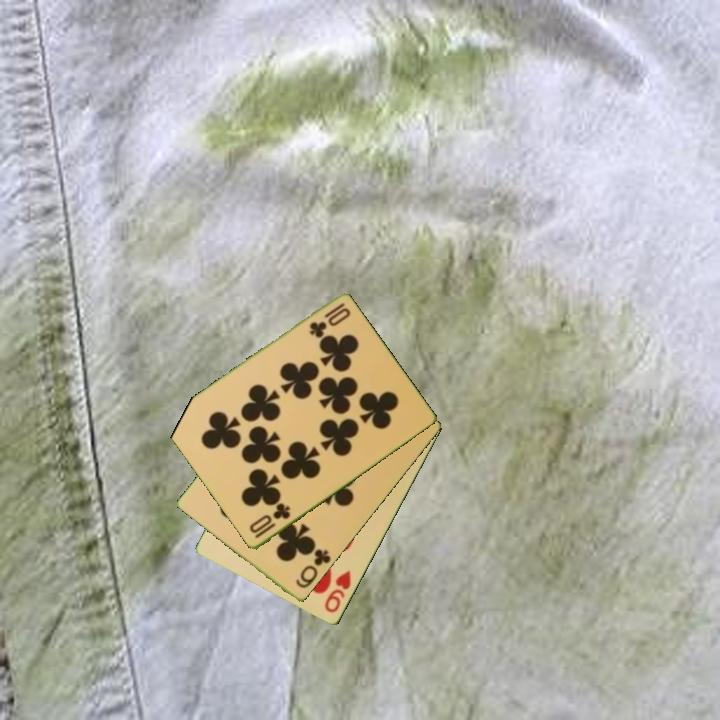10c: (246, 500, 293, 542), (306, 300, 353, 340)
6c: (292, 546, 334, 592)
9h: (321, 567, 354, 616)
